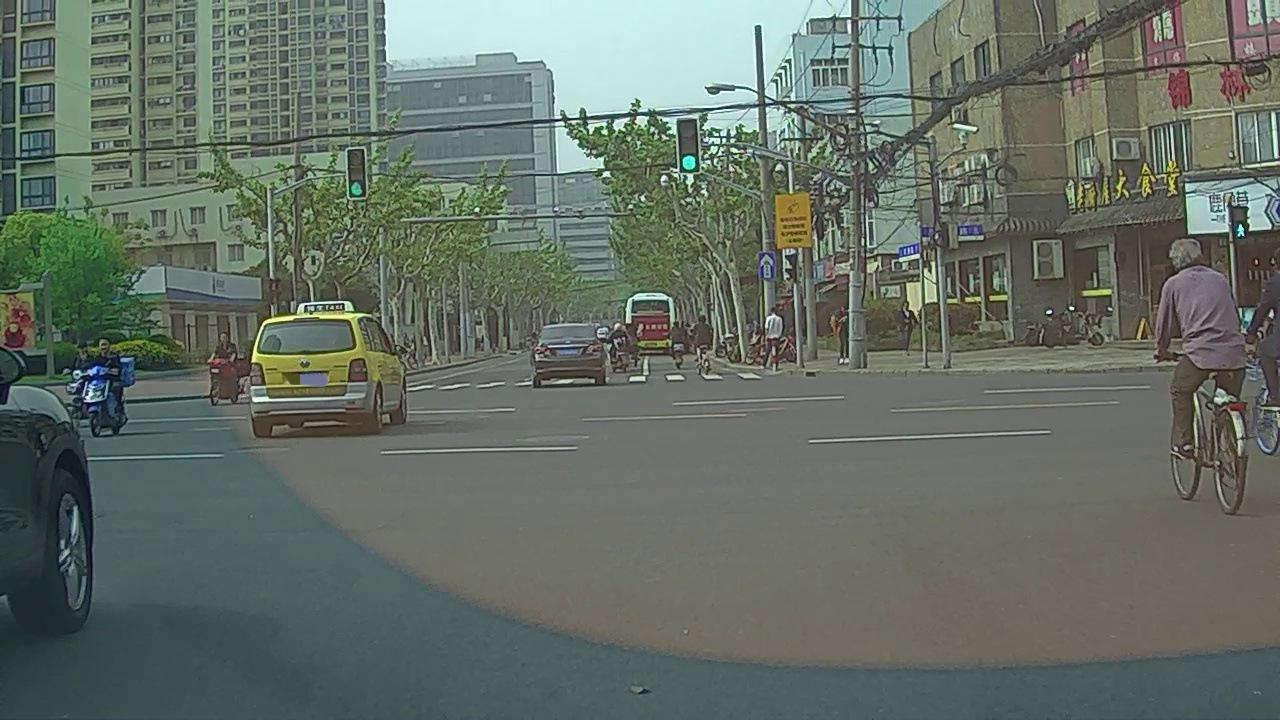traffic_light: (677, 116, 699, 173), (347, 150, 368, 198)
